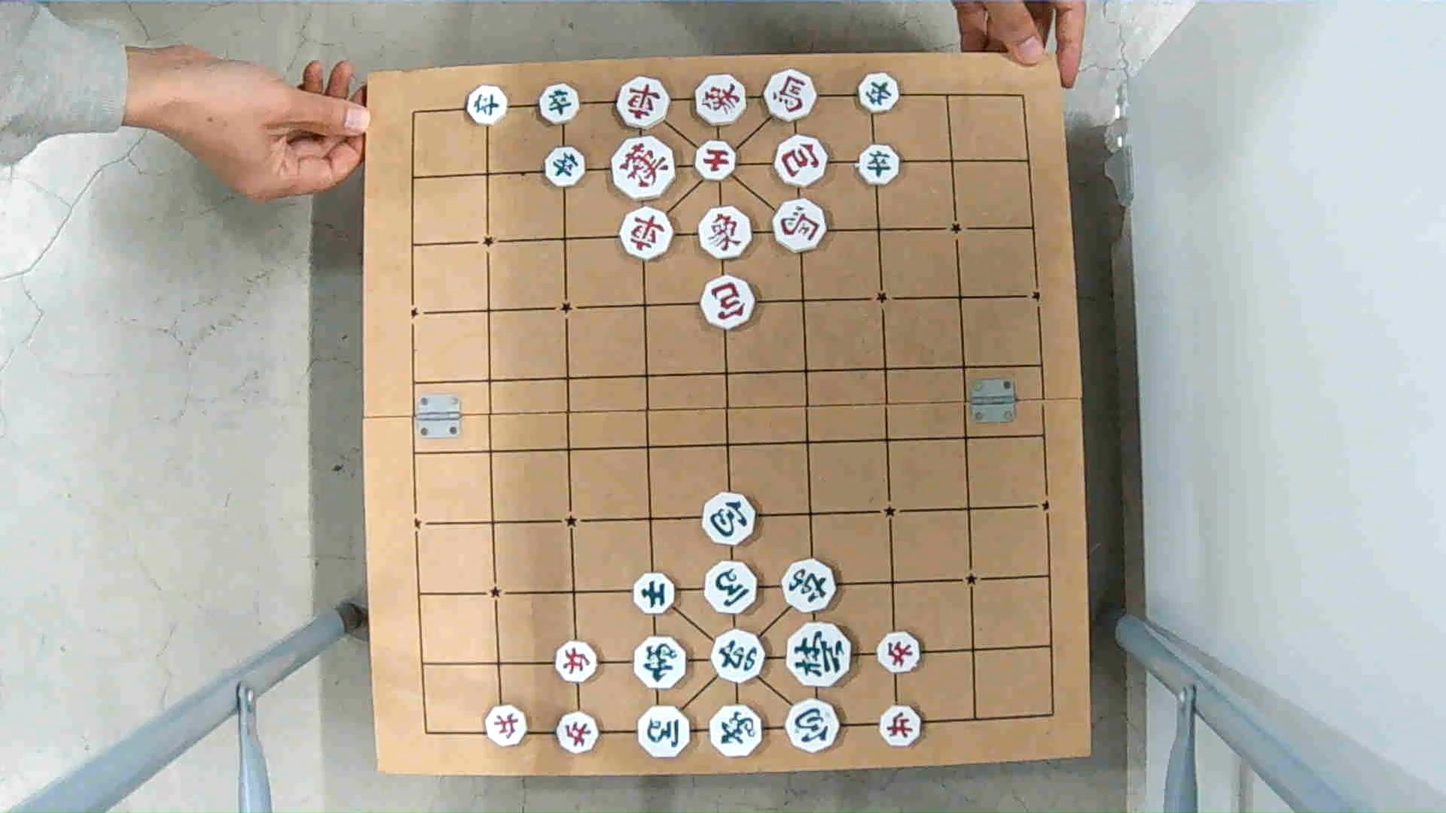cha_green: (709, 633, 767, 683), (780, 562, 837, 611)
cha_red: (617, 78, 668, 129), (623, 214, 676, 260)
jol_green: (856, 147, 901, 185), (543, 149, 587, 187), (537, 84, 579, 122), (465, 86, 508, 123), (859, 74, 902, 111)
jol_red: (875, 631, 922, 670), (485, 705, 528, 746), (553, 642, 597, 681), (878, 705, 922, 744), (557, 714, 602, 750)
ma_green: (705, 562, 761, 614), (636, 707, 692, 757)
ma_red: (774, 201, 831, 251), (764, 73, 818, 120)
po_green: (785, 701, 841, 751), (702, 495, 758, 544)
po_red: (702, 279, 758, 329), (776, 139, 830, 187)
sa_green: (633, 571, 675, 613)
sa_red: (695, 142, 739, 178)
sang_green: (708, 705, 765, 757), (635, 638, 688, 688)
sang_red: (698, 206, 752, 261), (694, 76, 749, 124)
wang_green: (786, 623, 849, 690)
wang_red: (611, 139, 678, 196)
